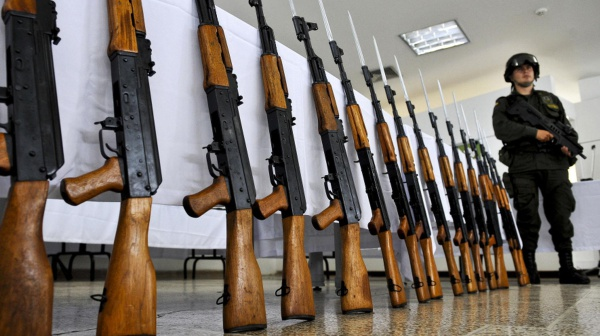ak47: (61, 2, 168, 336), (175, 2, 262, 332), (299, 12, 362, 311)
